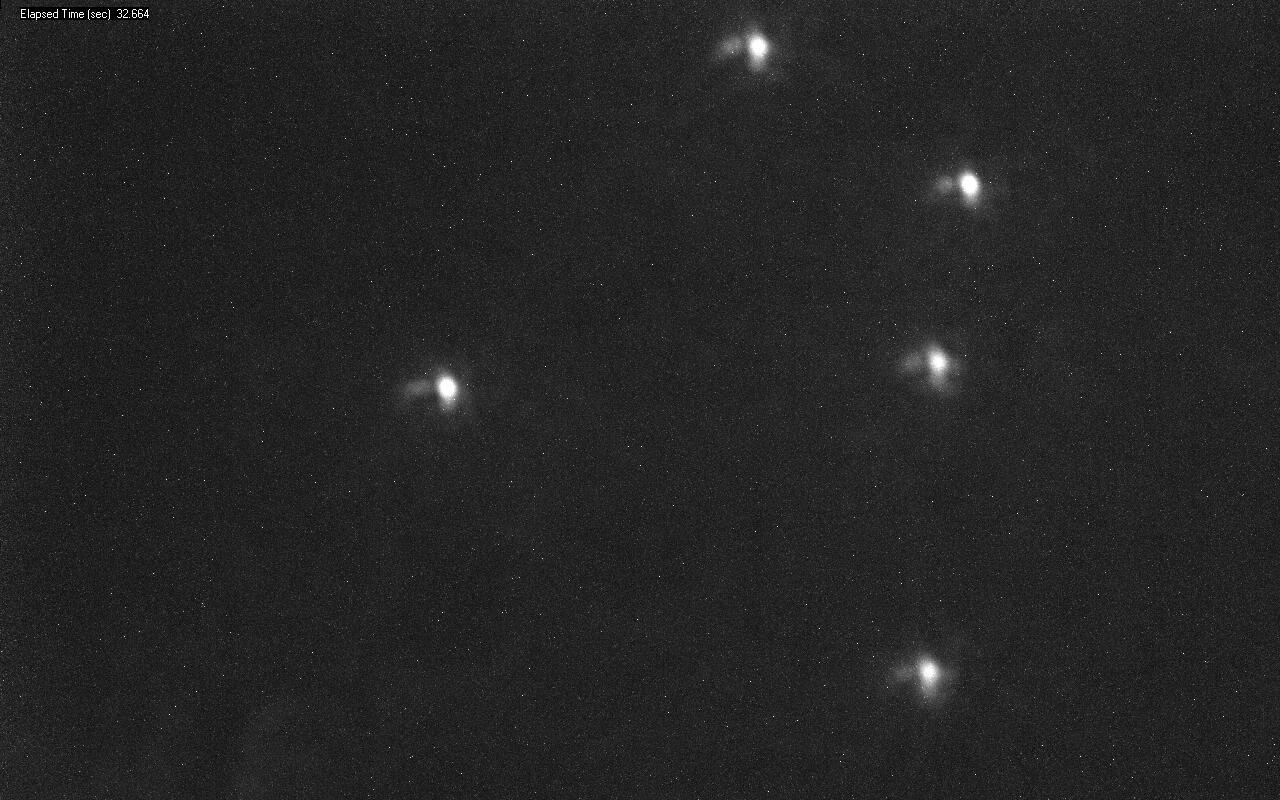Bead: (918, 656, 945, 694), (955, 172, 980, 200), (436, 375, 460, 404), (927, 350, 952, 377), (748, 34, 769, 65)
